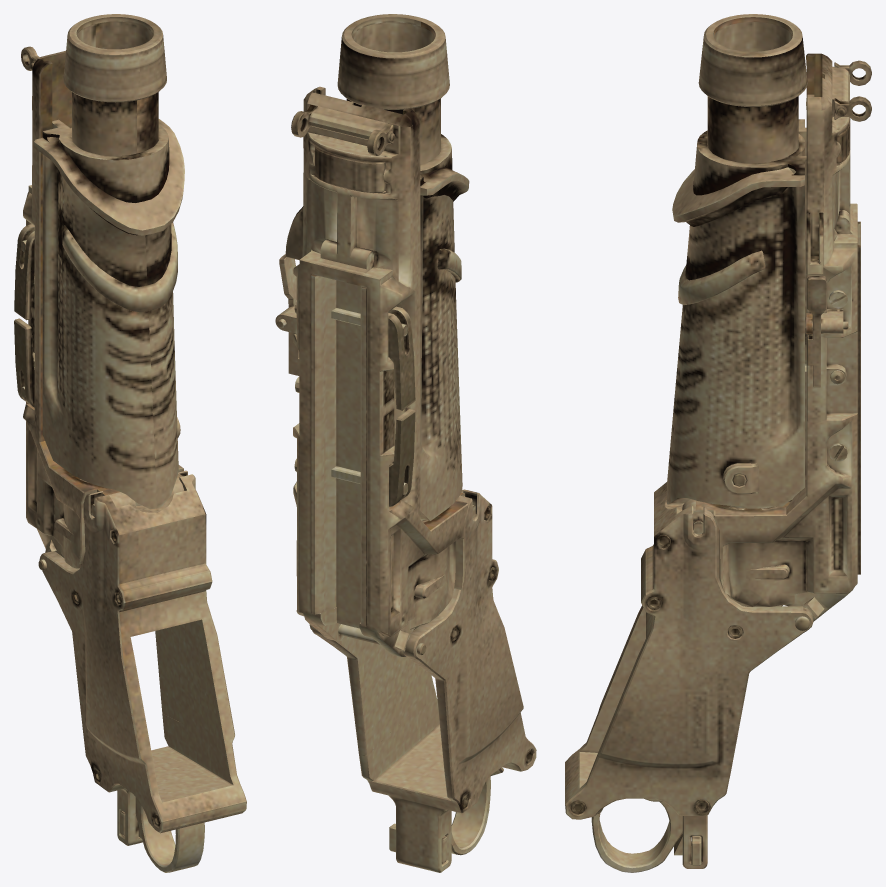
Rendered from Scar_GL.fbx.
The picture shows the model from 3 angles, left to right: view 1: azimuth 30°, elevation 25°; view 2: azimuth 150°, elevation 25°; view 3: azimuth 270°, elevation 25°; orthographic projection. The views are drawn at different scales.
Visible parts, largest first — view 1: Scar_GL_tan; view 2: Scar_GL_tan; view 3: Scar_GL_tan.
Boxes of the visible parts, x1,y1,x2,y2 form: Scar_GL_tan: (14,14,246,872); Scar_GL_tan: (275,14,536,872); Scar_GL_tan: (565,14,871,872).
Bounding box in the file's own units: 0.0465 × 0.2709 × 0.0905.
